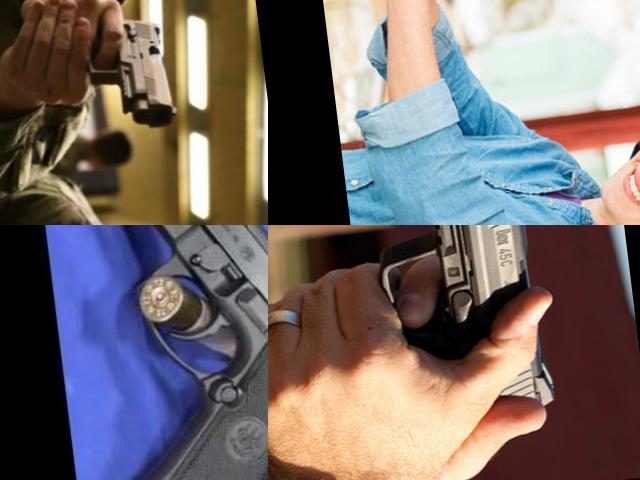handgun: (60, 225, 268, 480), (345, 225, 563, 440), (75, 6, 183, 138), (371, 0, 473, 39)
